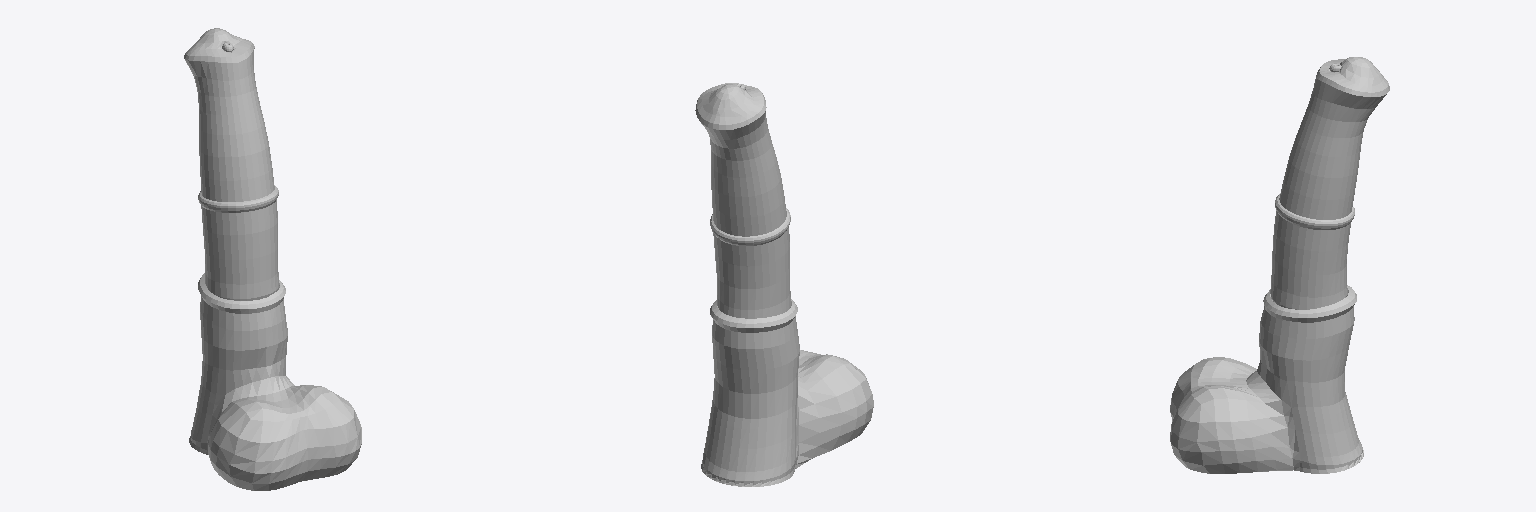
The model's file is pone_dildo.obj.
The picture shows the model from 3 angles: view 1: azimuth 30°, elevation 25°; view 2: azimuth 150°, elevation 25°; view 3: azimuth 270°, elevation 25°; orthographic projection.
Parts seen in each view (by area): view 1: dick_in_sheath.009_horsecock.015; view 2: dick_in_sheath.009_horsecock.015; view 3: dick_in_sheath.009_horsecock.015.
Part boxes in pixels (left/top/right/bottom): dick_in_sheath.009_horsecock.015: left=184, top=28, right=361, bottom=490; dick_in_sheath.009_horsecock.015: left=695, top=83, right=873, bottom=486; dick_in_sheath.009_horsecock.015: left=1170, top=57, right=1389, bottom=473.
Size of the model in its own units: 14.25 by 39.01 by 19.71.